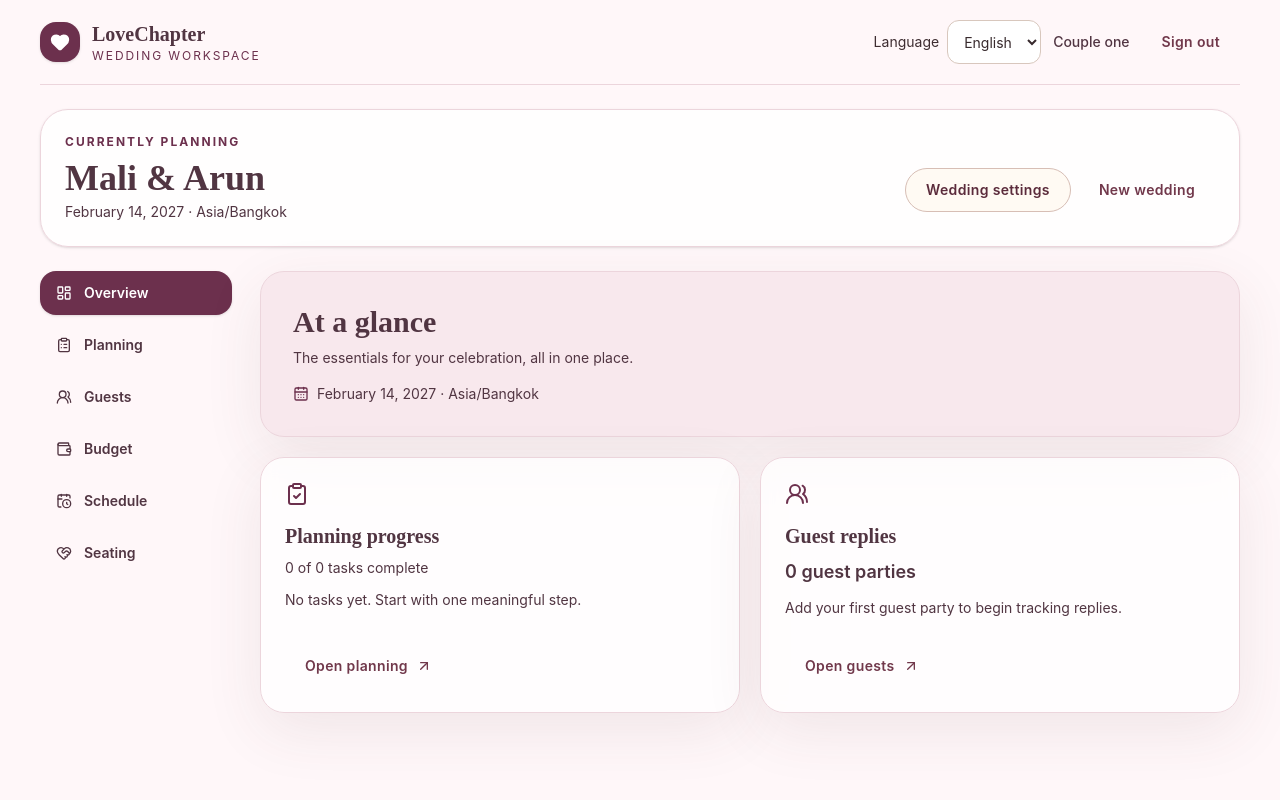
Test case: CoupleWorkspace › opens one wedding in Overview without preloading the guest editor
Expected: the heading "Mali & Arun" is shown, [65,158,287,198]
Expected: the navigation bar named "workspace sections" shows "Overview", [40,271,232,315]
Click the button "Guests".
click(136, 397)  # box [40,375,232,419]
(page scrolled)
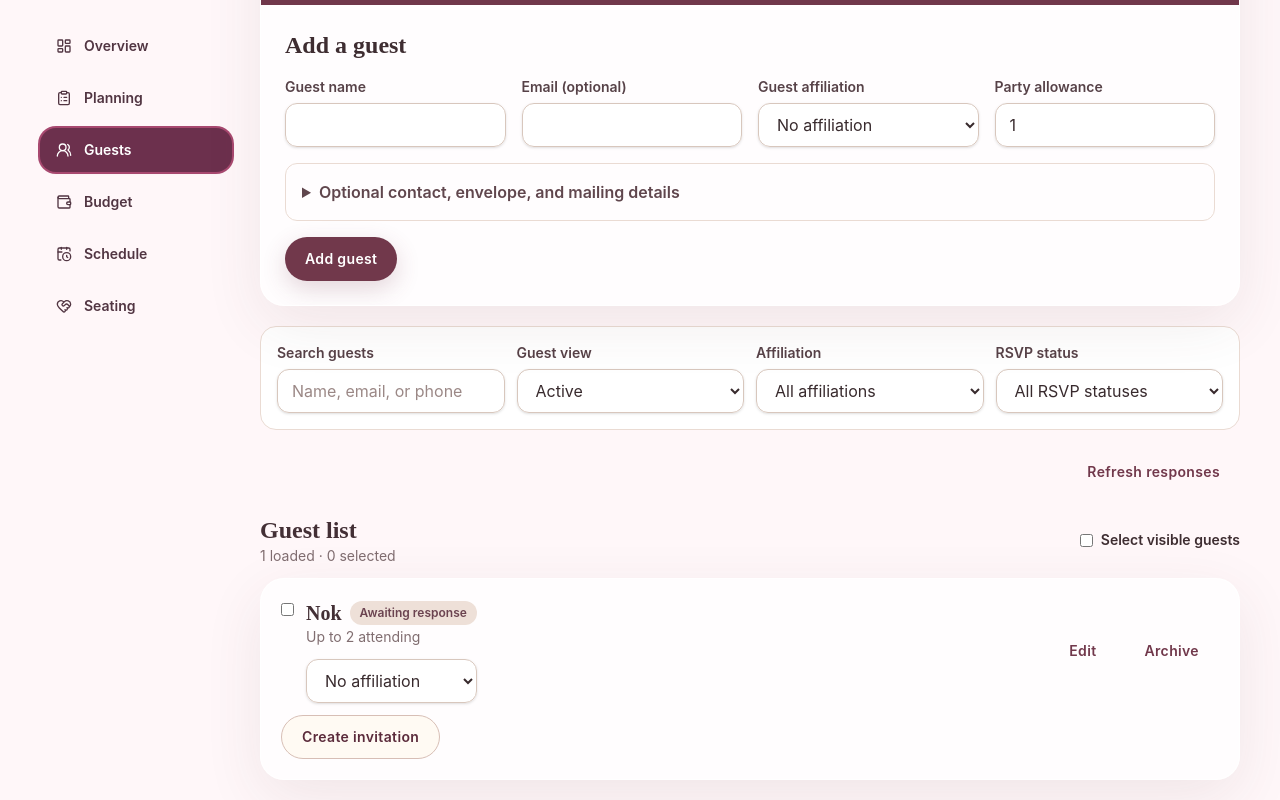
Now the text "Nok" is shown, box [306,599,342,627]
